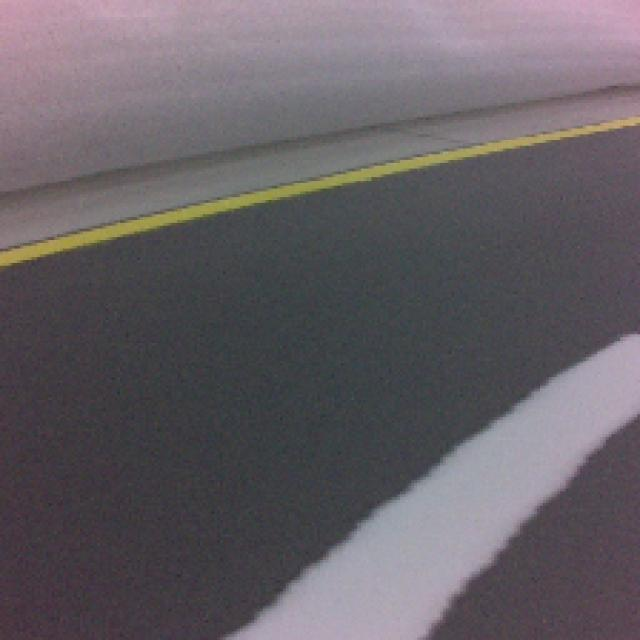Guard rail: (240, 332, 638, 640)
